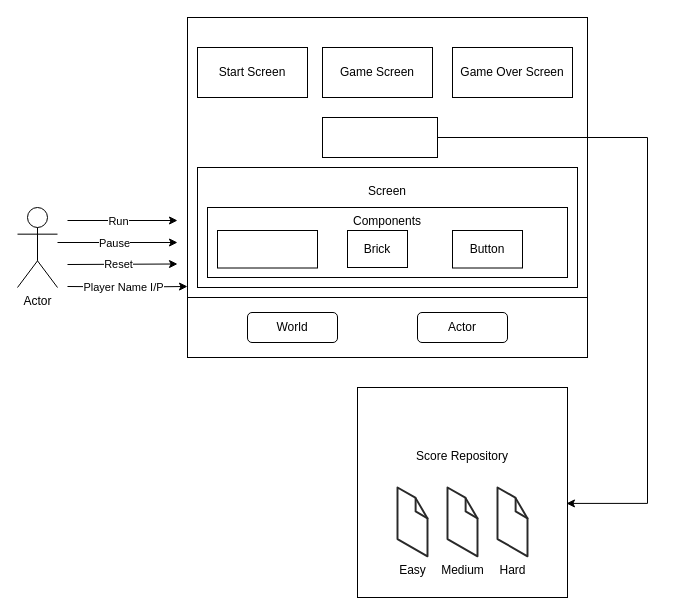
Image size: 673x615. Some labels were removed from this diagram. Each missing label, with the centre of its shape:
Character (Mario): point (267, 249)
Score Calculator: point (380, 137)
